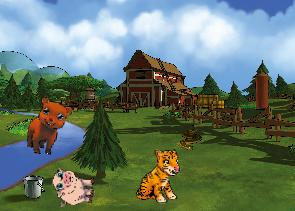bear: (24, 95, 74, 159)
pig: (52, 167, 95, 207)
tiger: (135, 149, 181, 204)
